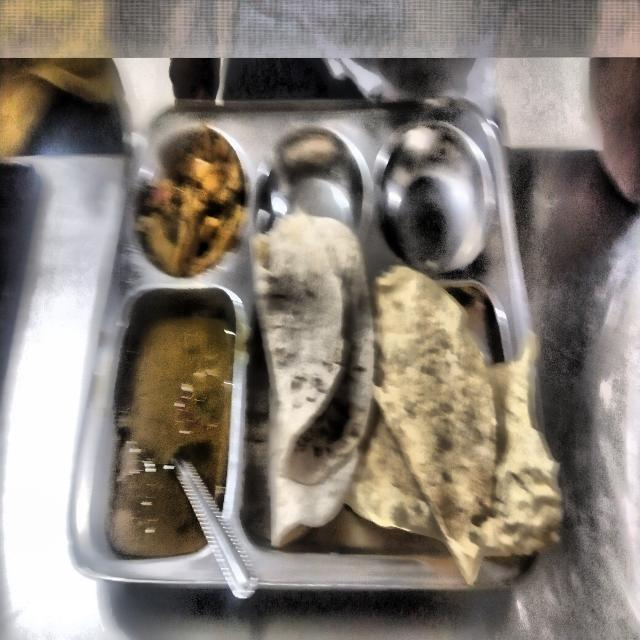Biryani: (111, 317, 235, 558)
No-waste: (349, 265, 561, 583)
Red--chutney: (252, 211, 561, 583), (251, 210, 376, 544), (243, 310, 269, 542)
gajar-aloo: (138, 138, 235, 266)
